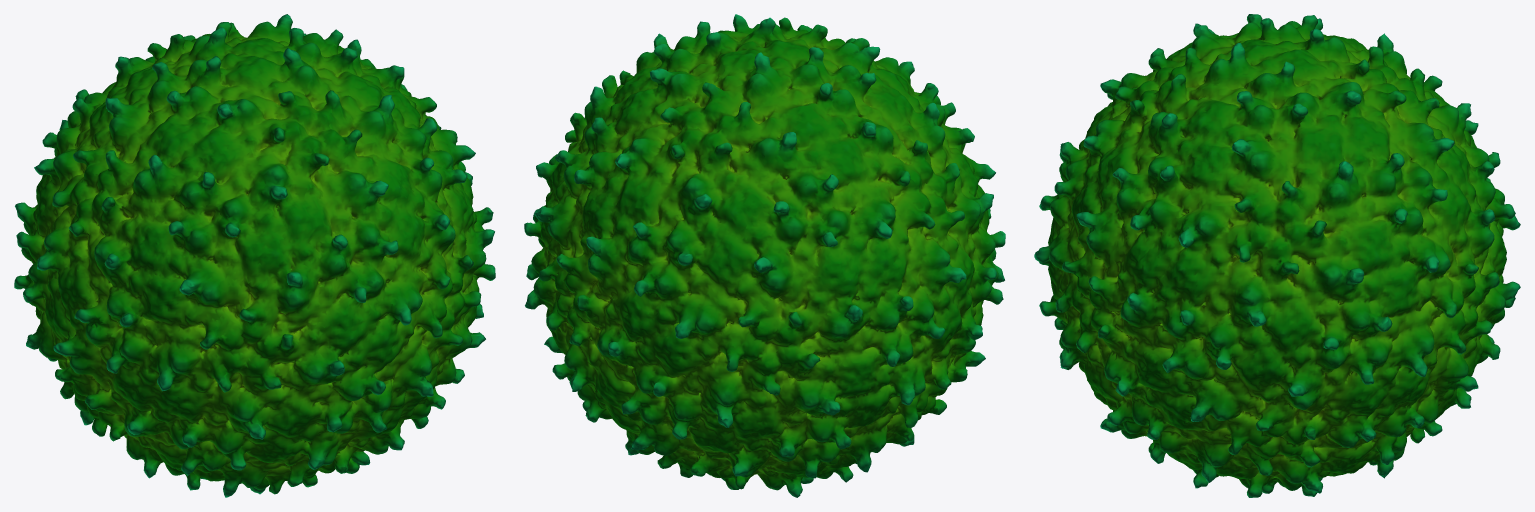
File: nilo-ocidental.glb
The picture shows the model from 3 angles, left to right: view 1: azimuth 30°, elevation 25°; view 2: azimuth 150°, elevation 25°; view 3: azimuth 270°, elevation 25°; orthographic projection.
Visible parts, largest first — view 1: Vírus; view 2: Vírus; view 3: Vírus.
Part boxes in pixels (box(x1,y1,x2,y2)): Vírus: box(14, 14, 495, 497); Vírus: box(524, 14, 1005, 497); Vírus: box(1034, 14, 1520, 497).
Bounding box in the file's own units: 13107 × 13107 × 13107.
